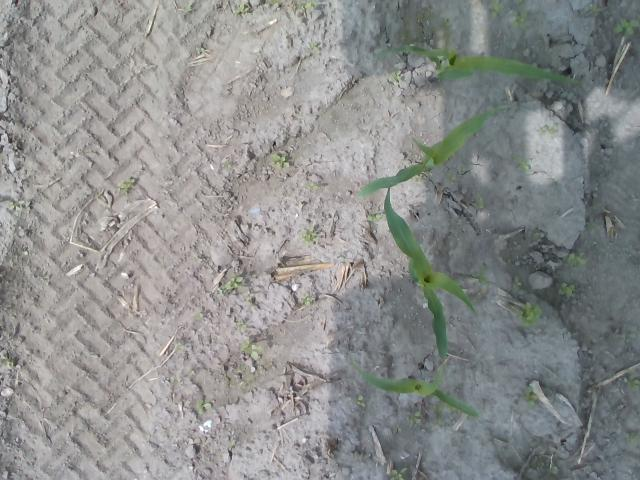Maize: (384, 186, 486, 364), (358, 101, 516, 202), (385, 42, 579, 92), (350, 363, 482, 420)
Weeds: (518, 300, 544, 326), (219, 274, 243, 296), (615, 18, 640, 34), (242, 342, 260, 361), (270, 153, 290, 170), (522, 386, 538, 407), (558, 281, 576, 298), (621, 376, 640, 392), (115, 178, 136, 192), (568, 252, 586, 267), (390, 466, 409, 480), (406, 414, 426, 427), (488, 0, 503, 17), (512, 156, 530, 170), (300, 231, 317, 245), (196, 400, 212, 414), (512, 11, 526, 26), (297, 0, 320, 9), (233, 3, 250, 13), (355, 394, 367, 407), (367, 212, 382, 221), (543, 126, 558, 135), (306, 42, 318, 52), (512, 276, 522, 288), (391, 70, 402, 80), (191, 312, 203, 321), (306, 183, 318, 192), (591, 4, 601, 13), (304, 296, 312, 306), (237, 320, 246, 328)
